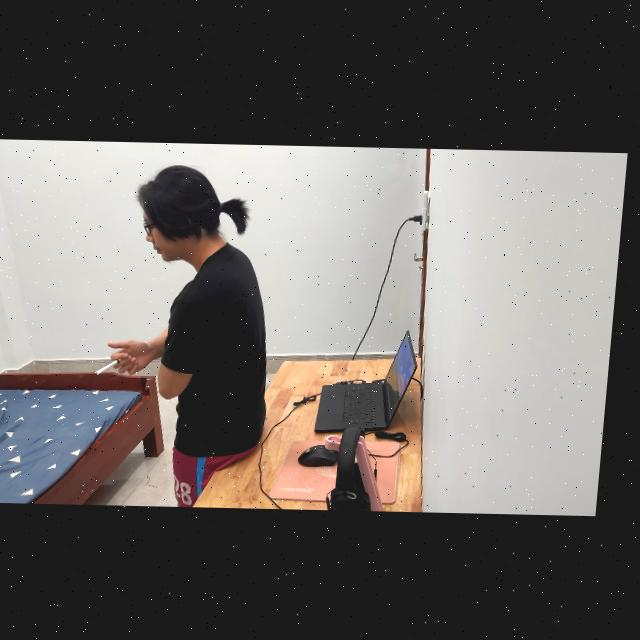cigarette: (102, 358, 133, 375)
